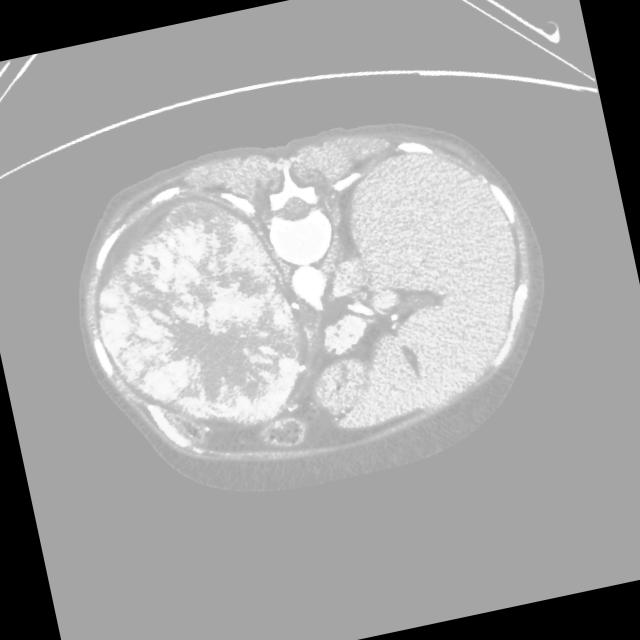TUMOR: (16, 118, 418, 492)
